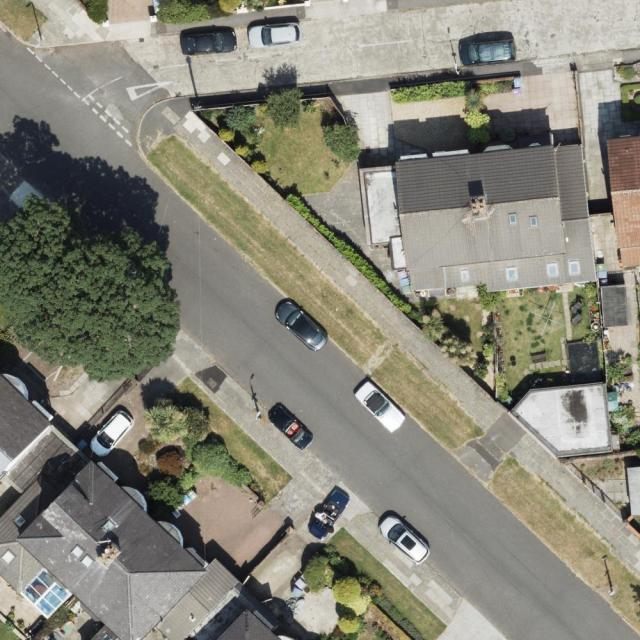roof: (0, 375, 241, 640), (363, 145, 597, 293), (513, 383, 612, 458), (608, 138, 640, 269), (217, 610, 282, 640)
skylight: (20, 568, 72, 619), (100, 518, 117, 534), (70, 543, 86, 560), (1, 550, 16, 567), (12, 513, 27, 528), (504, 266, 518, 282), (546, 262, 559, 278), (568, 259, 581, 275), (81, 554, 94, 567), (459, 267, 470, 282), (508, 211, 517, 223), (529, 215, 538, 226)
